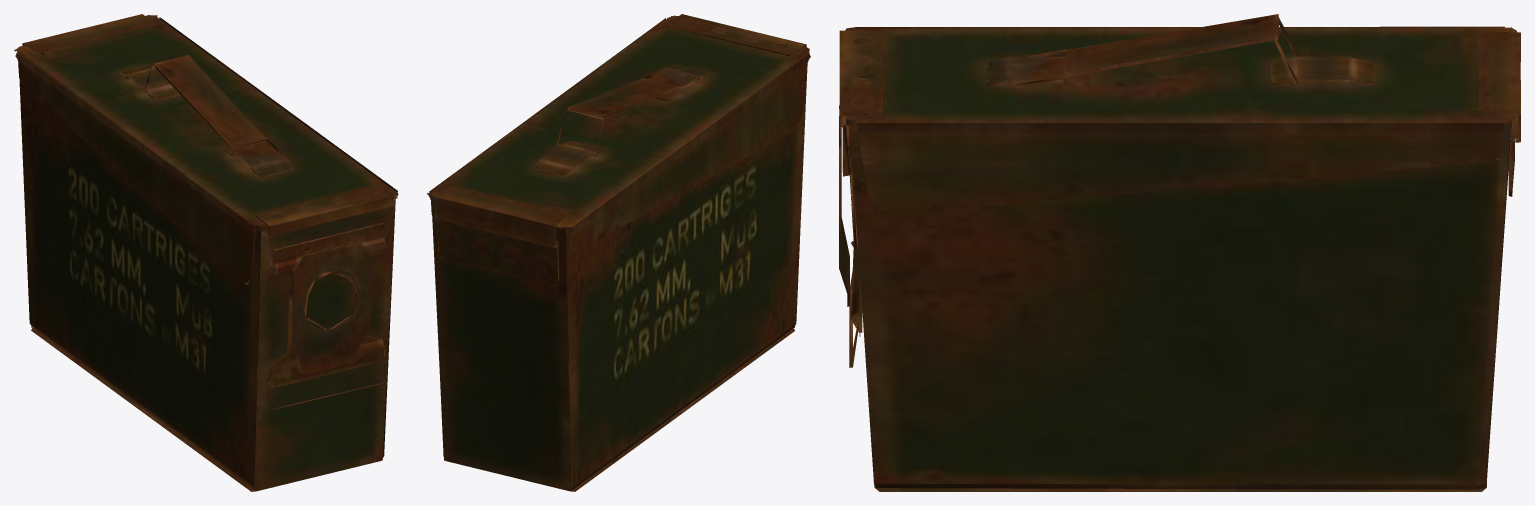
File: ammo_box.glb
The picture shows the model from 3 angles, left to right: view 1: azimuth 30°, elevation 25°; view 2: azimuth 150°, elevation 25°; view 3: azimuth 270°, elevation 25°; orthographic projection. The views are drawn at different scales.
Visible parts, largest first — view 1: ammo_box_handle_ring_b; view 2: ammo_box_handle_ring_b; view 3: ammo_box_handle_ring_b.
Boxes of the visible parts, x1=… form: ammo_box_handle_ring_b: x1=14, y1=14, x2=398, y2=491; ammo_box_handle_ring_b: x1=427, y1=14, x2=810, y2=491; ammo_box_handle_ring_b: x1=839, y1=14, x2=1520, y2=491.
Size of the model in its own units: 0.0869 by 0.1765 by 0.2577.
Materials: 1 (1 with a texture image).
